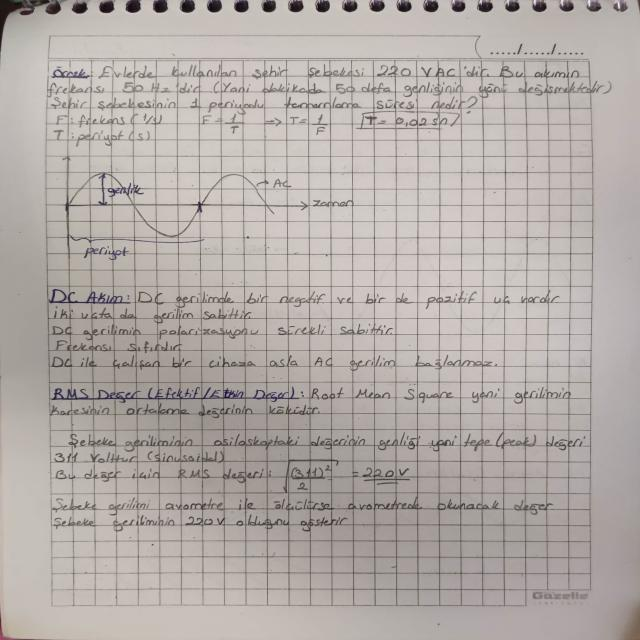image: (54, 152, 363, 262)
math: (200, 111, 471, 138), (280, 456, 418, 495)
text: (46, 284, 566, 372), (43, 64, 615, 110), (51, 490, 558, 531), (48, 384, 575, 418), (51, 431, 590, 449), (54, 467, 276, 485), (50, 448, 231, 464), (48, 112, 130, 146)
